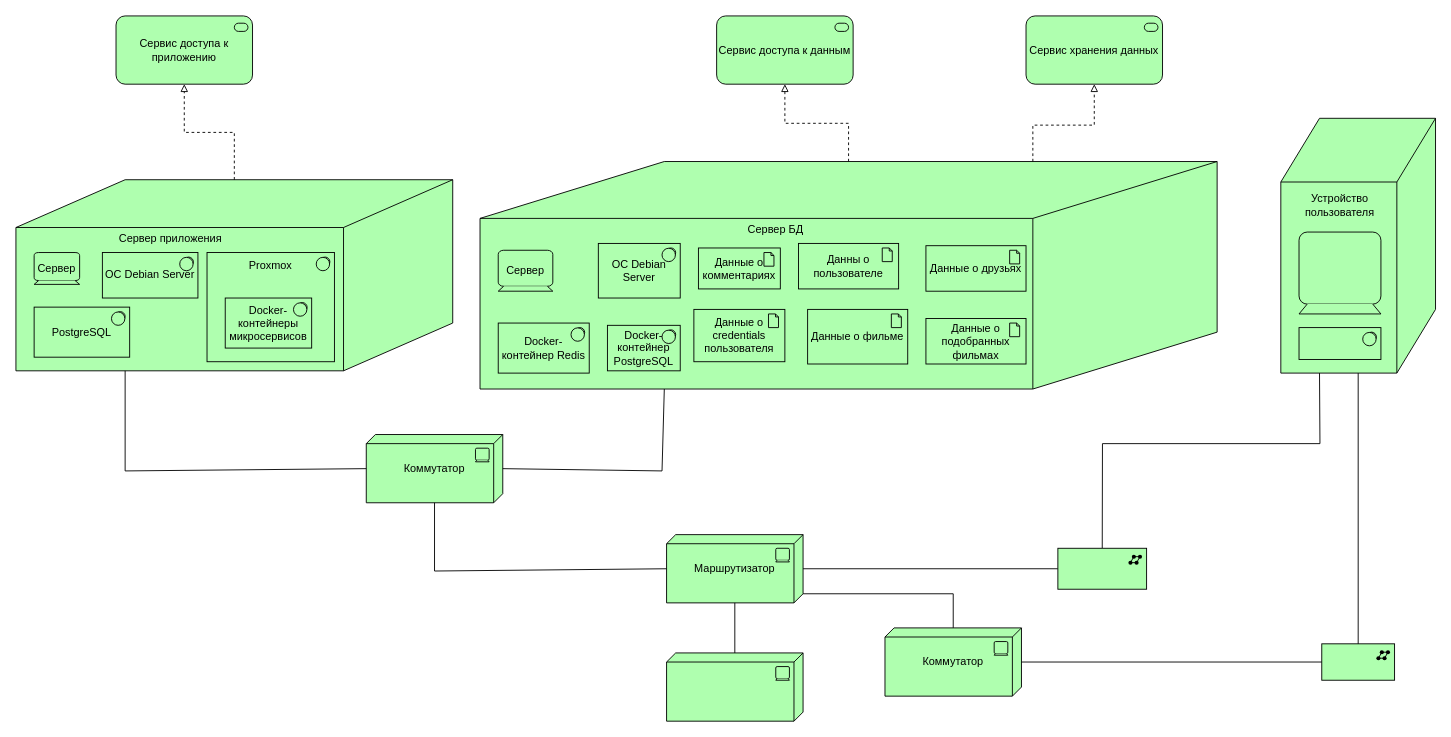
The diagram is 1451 pixels wide and 737 high, and some of its shapes have lost their labels. The shapes that lost their labels are listed below. From the top down, each one's centre as x and y in pixels, then its label:
At point 1339,272: "Персональный компьютер с доступом в интернет".
At point 1339,343: "Браузер".
At point 1102,568: "WLAN".
At point 1358,661: "LAN".
At point 734,686: "Брандмауэр".
